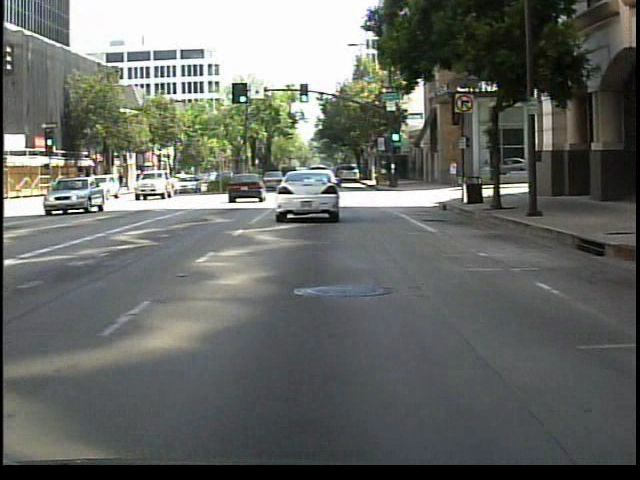person: (445, 154, 462, 194)
